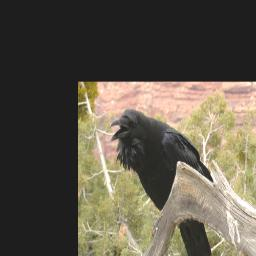Crow: (109, 109, 214, 256)
